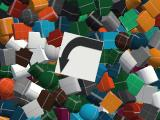Left: (54, 32, 104, 82)
